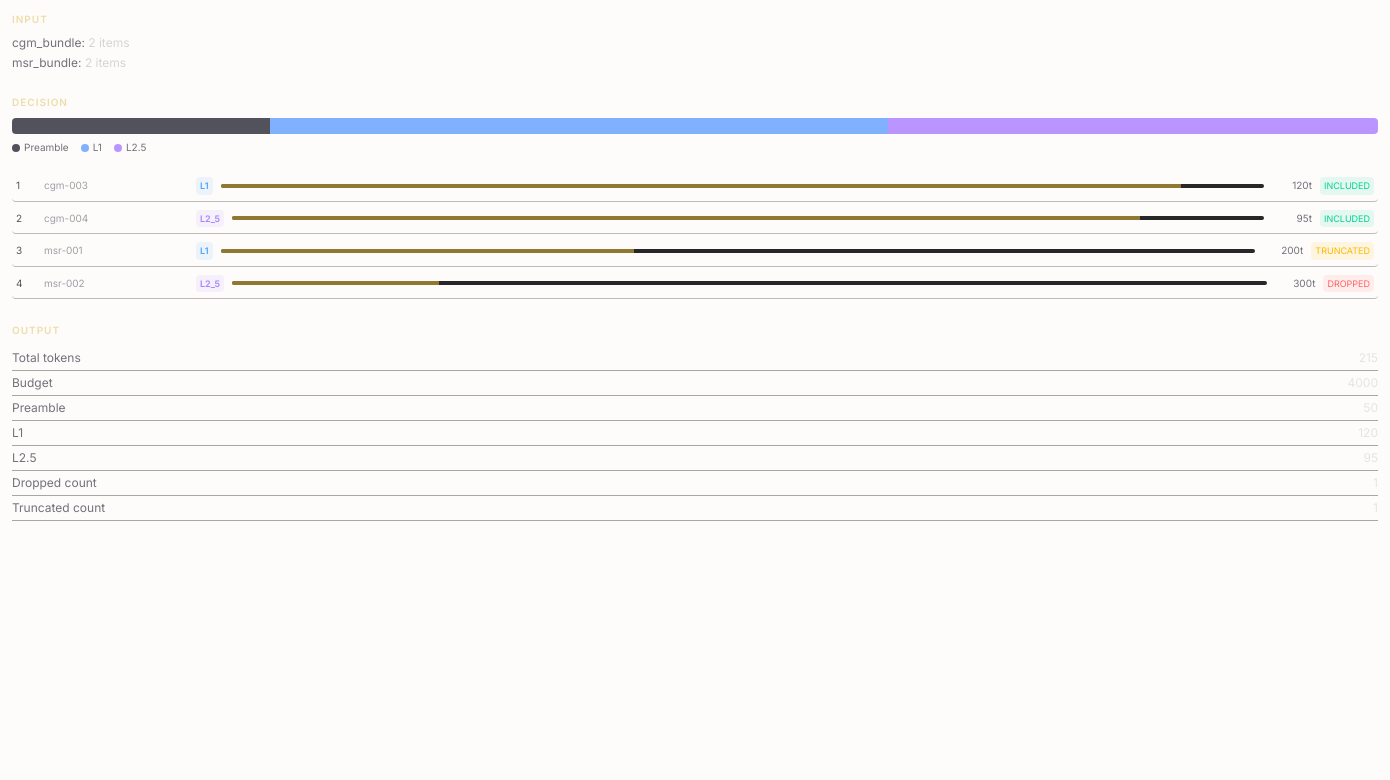
ContextAssemblyDetail › expanding a DROPPED item shows drop_reason
Click the element with test id "context-item-dropped": [695, 284] box x1=12 y1=268 x2=1378 y2=299
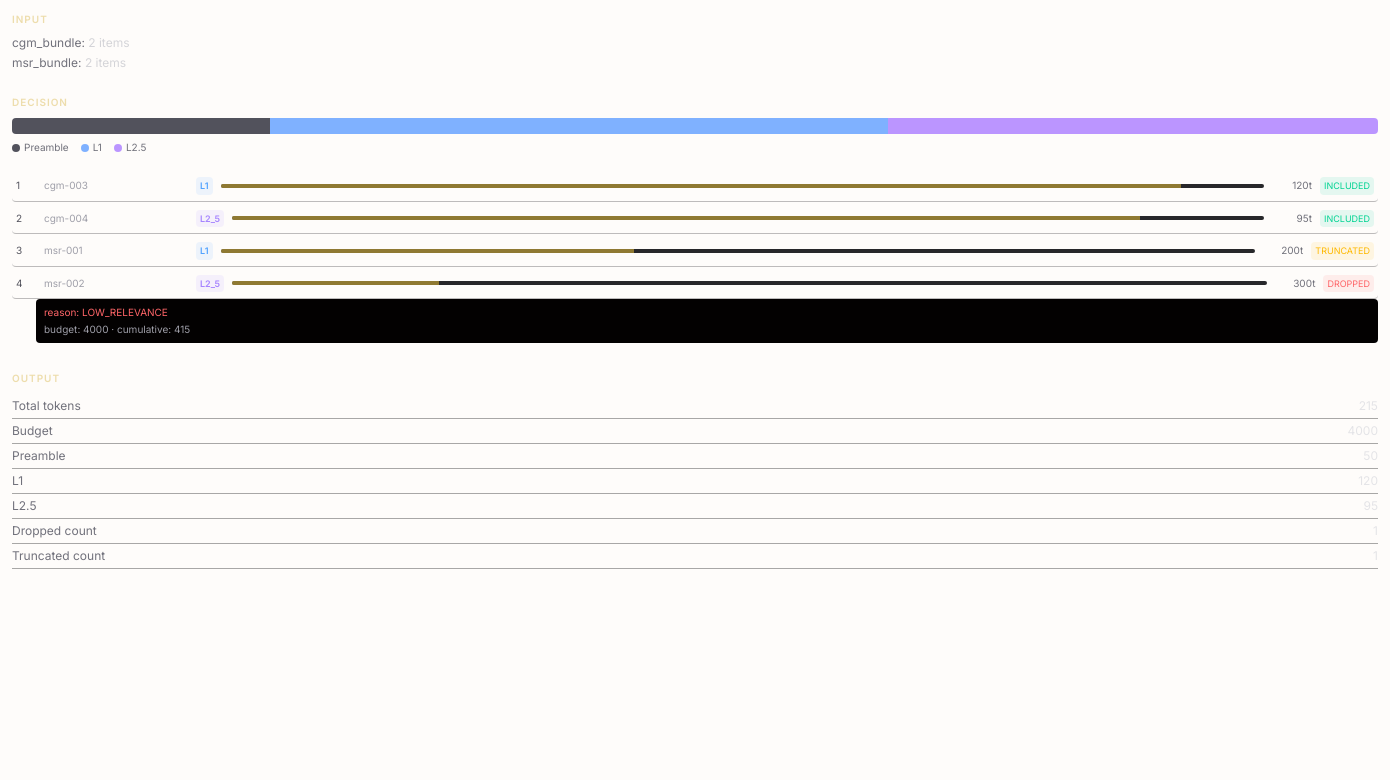
Expected: the text "reason: LOW_RELEVANCE" is shown, x1=44 y1=306 x2=168 y2=318
